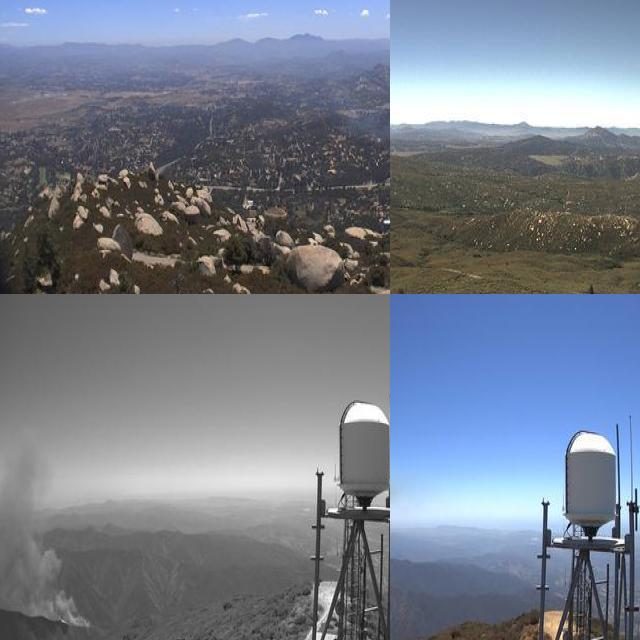smoke: (0, 435, 90, 629), (348, 104, 390, 159)
